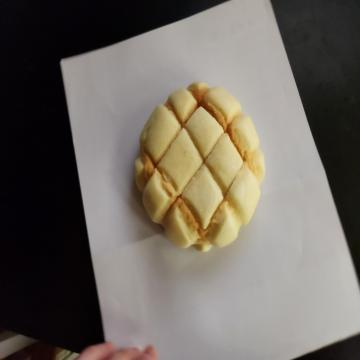melon_bread: (131, 80, 268, 256)
